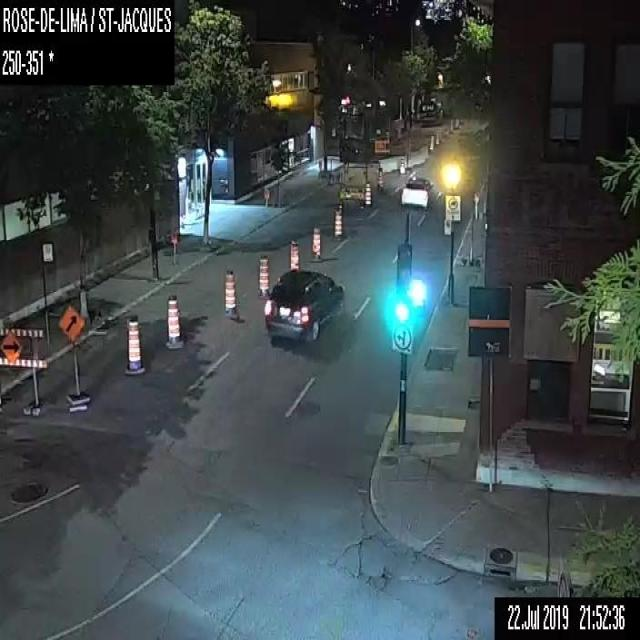construction: (0, 325, 46, 418), (54, 303, 89, 417), (337, 135, 370, 199), (124, 313, 146, 376), (161, 292, 184, 351), (221, 268, 239, 317), (255, 252, 270, 297), (331, 200, 343, 240), (288, 233, 300, 270), (310, 225, 321, 264), (371, 137, 388, 156), (362, 178, 372, 210), (169, 230, 177, 264), (376, 166, 385, 189), (262, 187, 268, 216), (0, 334, 7, 358), (398, 157, 406, 176), (316, 157, 322, 176), (434, 128, 439, 143), (429, 134, 433, 150), (444, 121, 450, 131)
vehicle: (261, 267, 343, 341), (398, 173, 434, 210)
